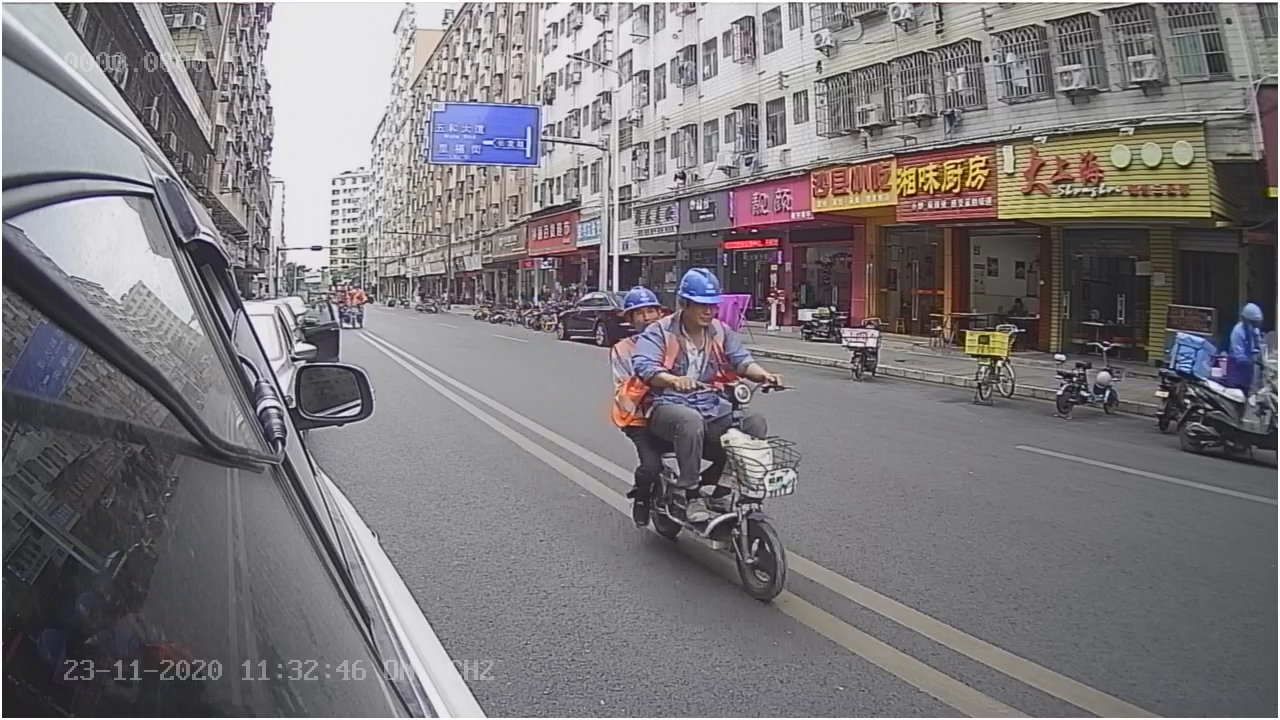person: (634, 246, 776, 390)
